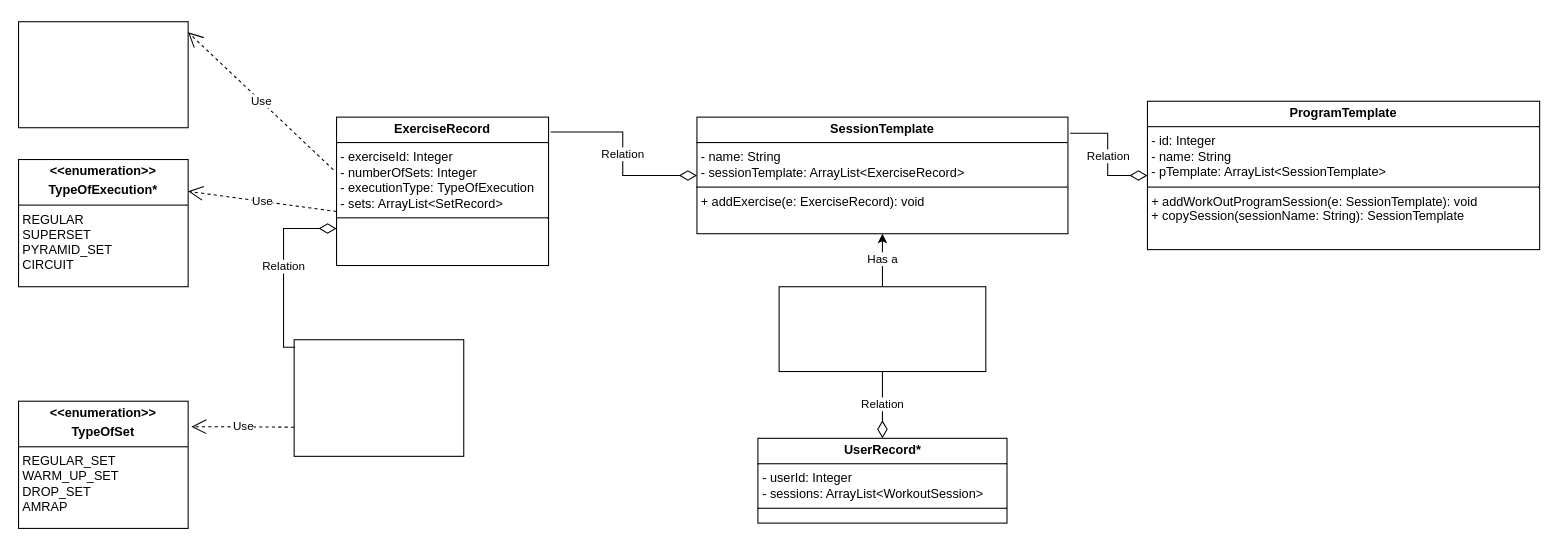
Image size: 1558x547. Some labels were removed from this diagram. Each missing label, with the centre of its shape:
Exercise - id: Integer - name: String - description: String: point (102, 74)
SetRecord - reps: Integer - weight: Double - rpe: Integer - type: TypeOfSet: point (378, 397)
WorkoutSession - date: LocalDate - SessionTemplate: session: point (882, 329)
